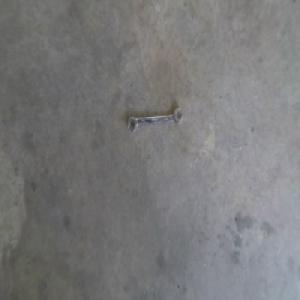Wrench: (123, 106, 186, 135)
